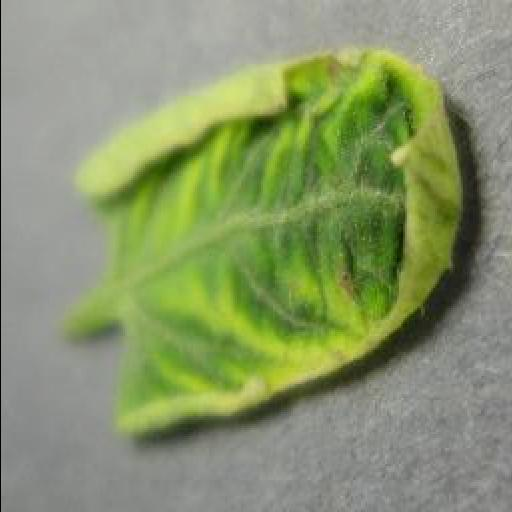disease_tomato: (73, 46, 463, 438)
